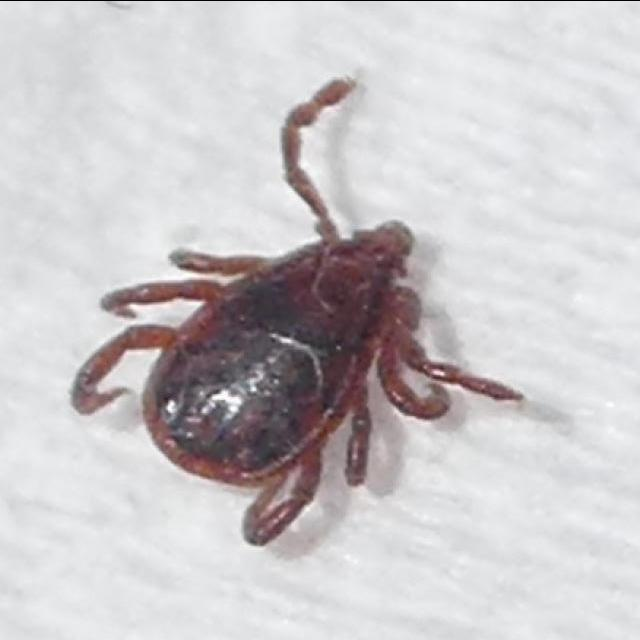Rhipicephalus Sanguineus-M: (69, 79, 522, 548)
